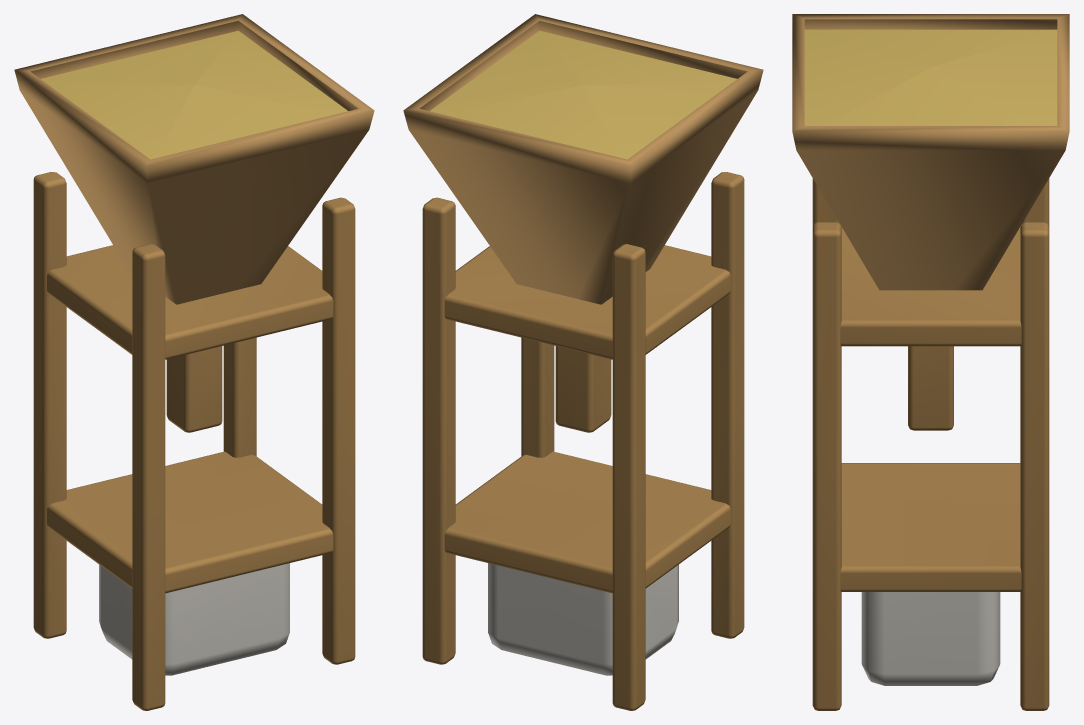
File: furn_grain_hopper.glb
The picture shows the model from 3 angles, left to right: view 1: azimuth 30°, elevation 25°; view 2: azimuth 150°, elevation 25°; view 3: azimuth 270°, elevation 25°; orthographic projection. The views are drawn at different scales.
Parts seen in each view (by area): view 1: furn_grain_hopper_main; view 2: furn_grain_hopper_main; view 3: furn_grain_hopper_main.
Part boxes in pixels (box(x1,y1,x2,y2)): furn_grain_hopper_main: box(14, 14, 374, 710); furn_grain_hopper_main: box(403, 14, 763, 710); furn_grain_hopper_main: box(792, 14, 1069, 710).
Size of the model in its own units: 0.4808 by 1.13 by 0.4808.
